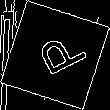P_SW: (24, 27, 86, 83)
